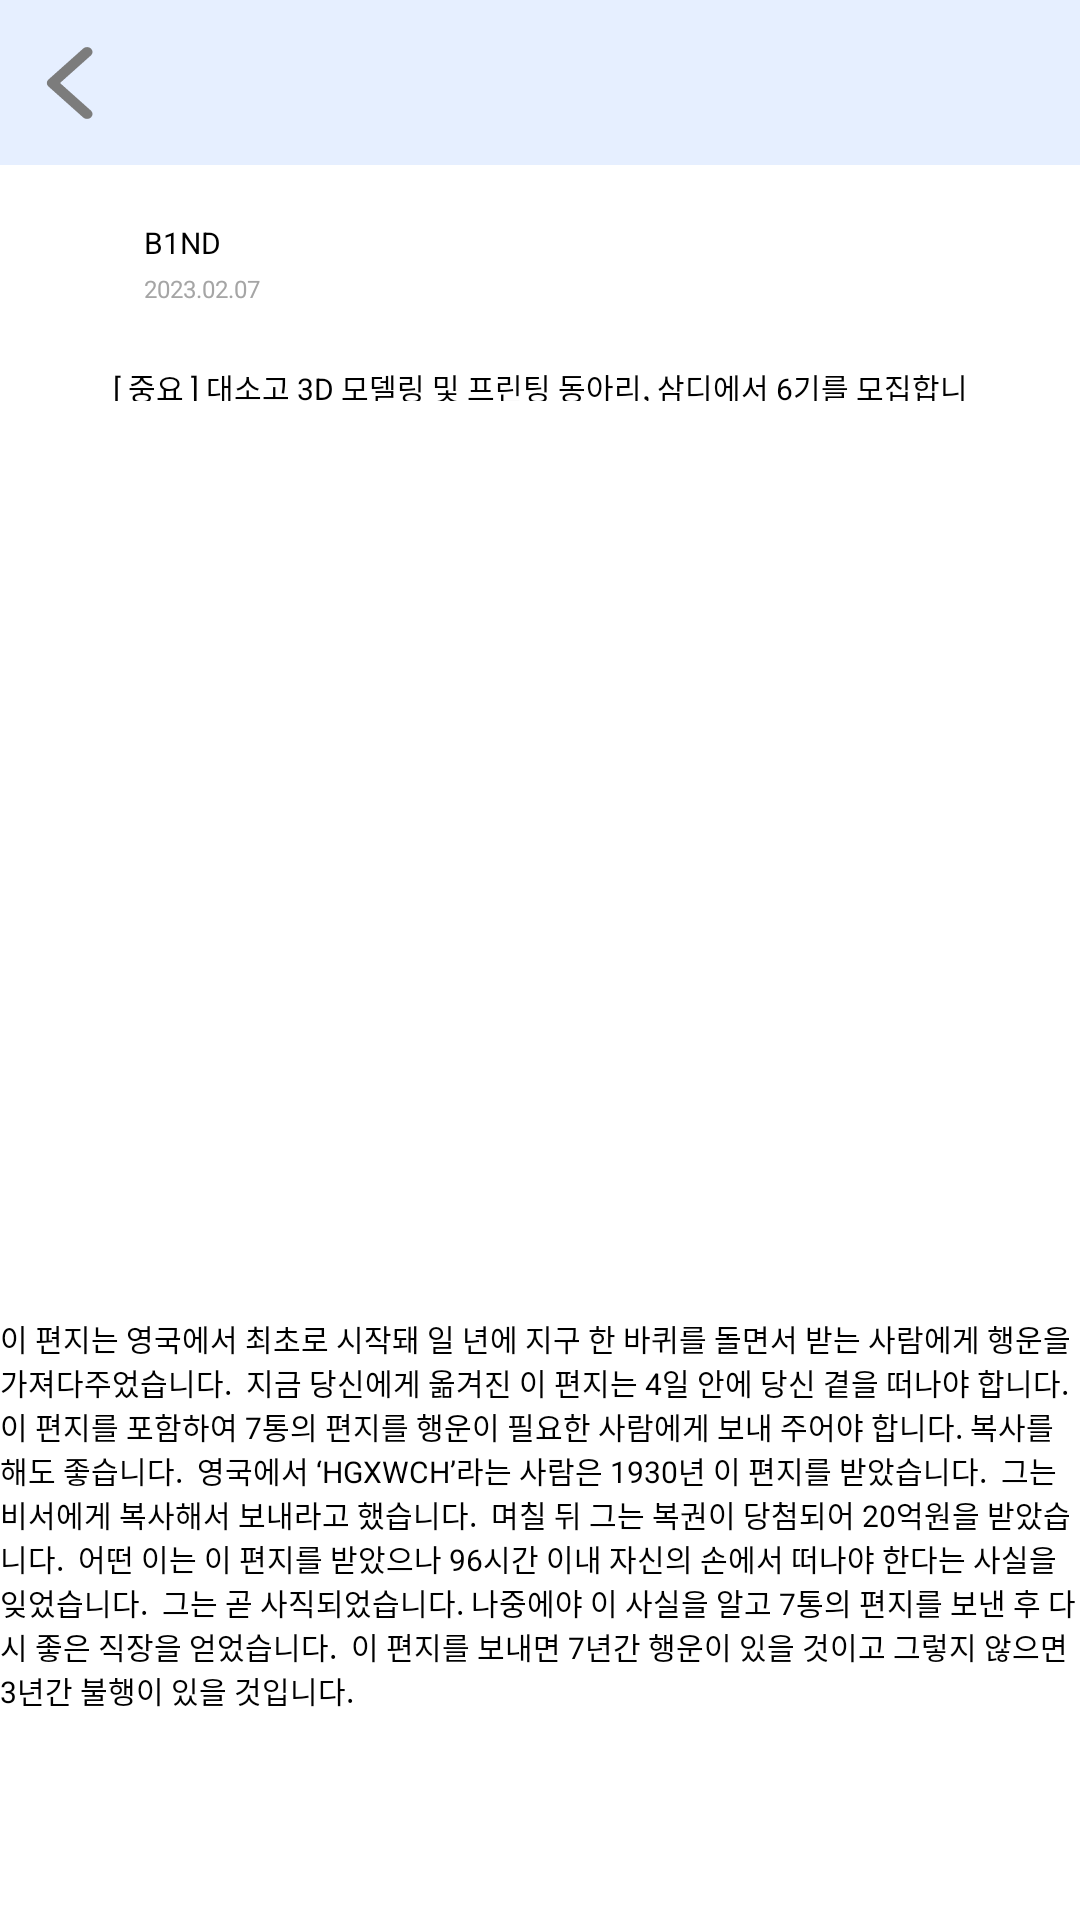

Locate icon controls on the screen. Image size 1080w x 1920h, boxes as (x1, y1, x2, y2).
back: (47, 47, 93, 119)
